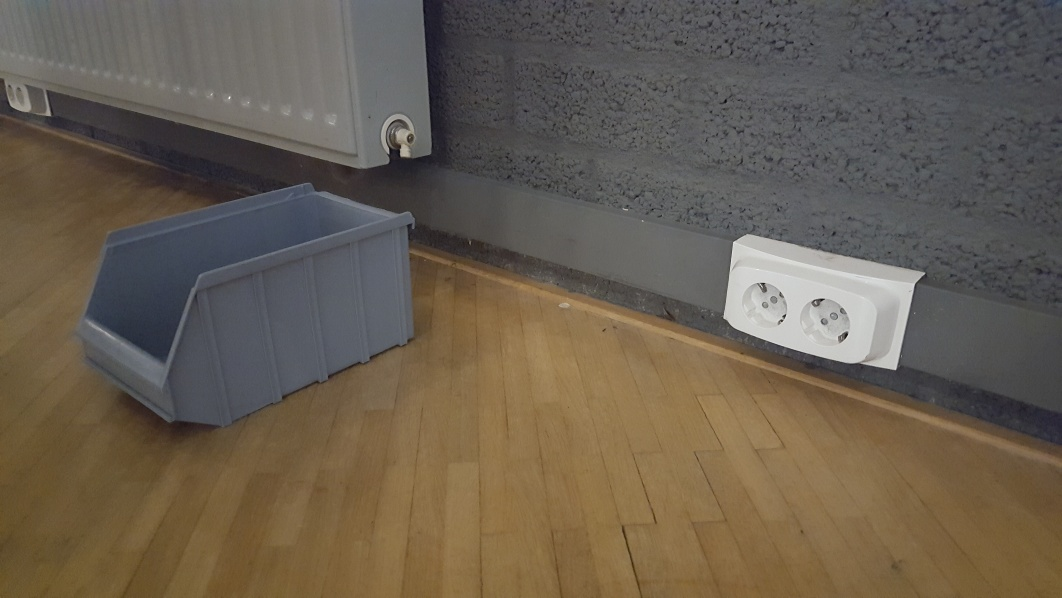tray: (74, 179, 418, 427)
